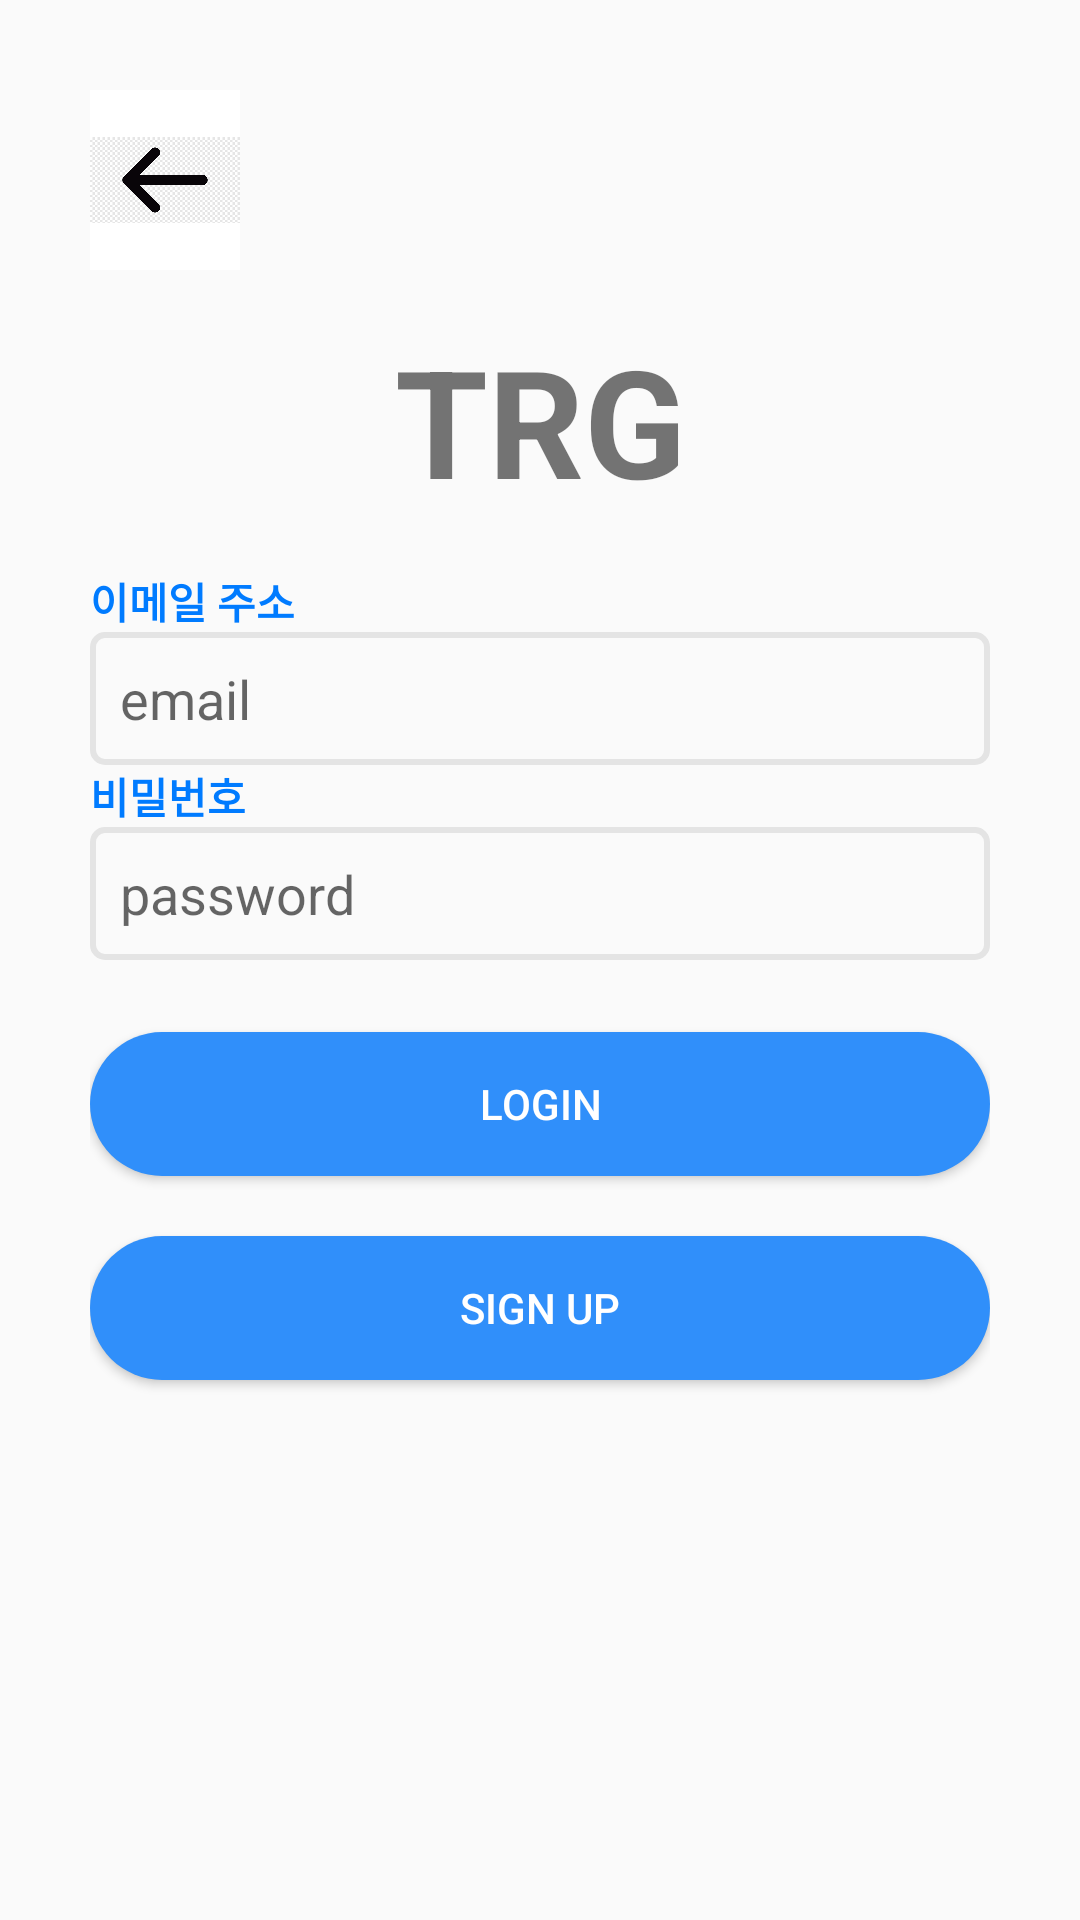

Where to tap for icons on this 1080w x 1920h app screen, as (x,y):
arrow: (165,180)
